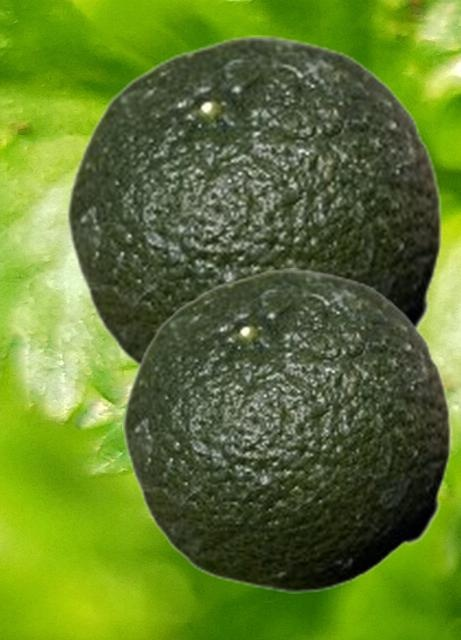calamansi: (66, 35, 442, 369), (122, 268, 451, 592)
